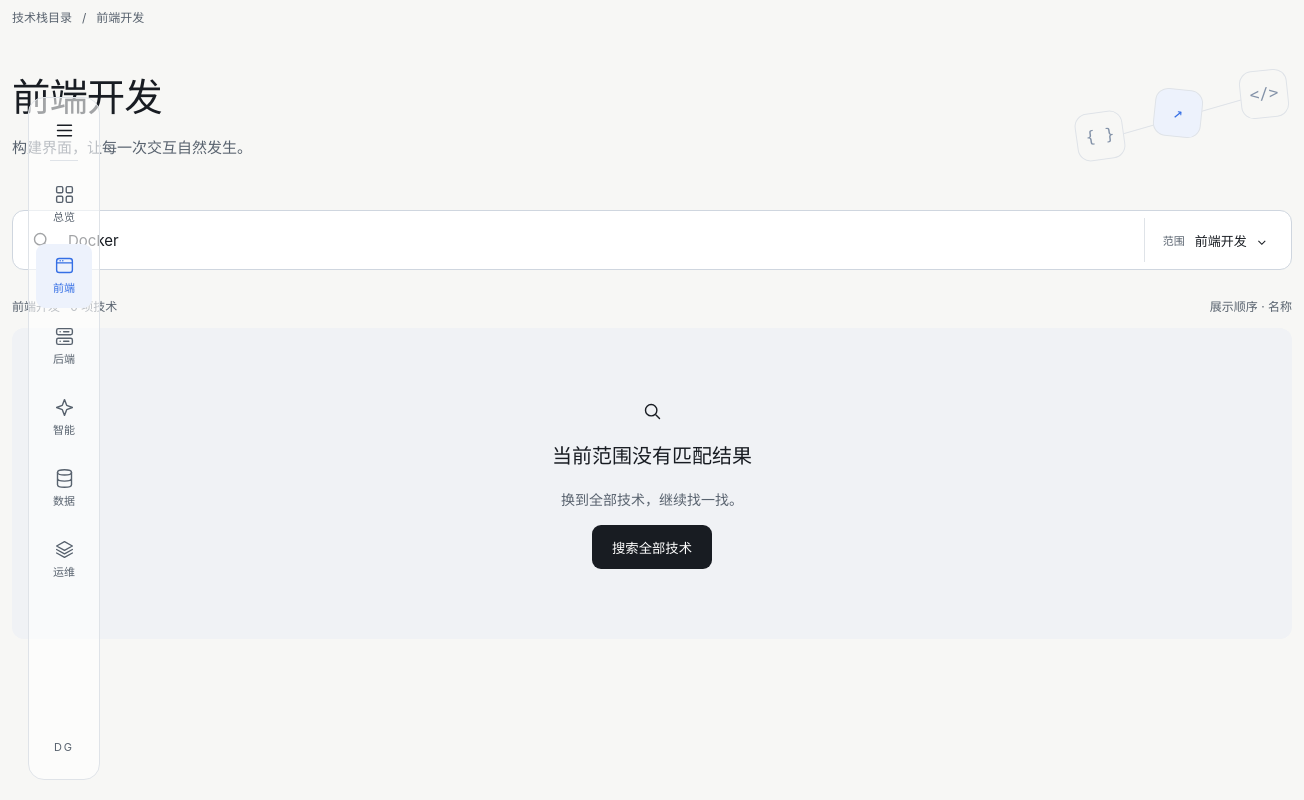
Test case: 局部无匹配只提供扩大范围，全目录能找到其他方向的技术
Expected: the element with class "catalog-empty" shows "当前范围没有匹配结果", [552,444,752,468]
Click the button with class "catalog-action" at [652, 547], box [592,525,712,569]
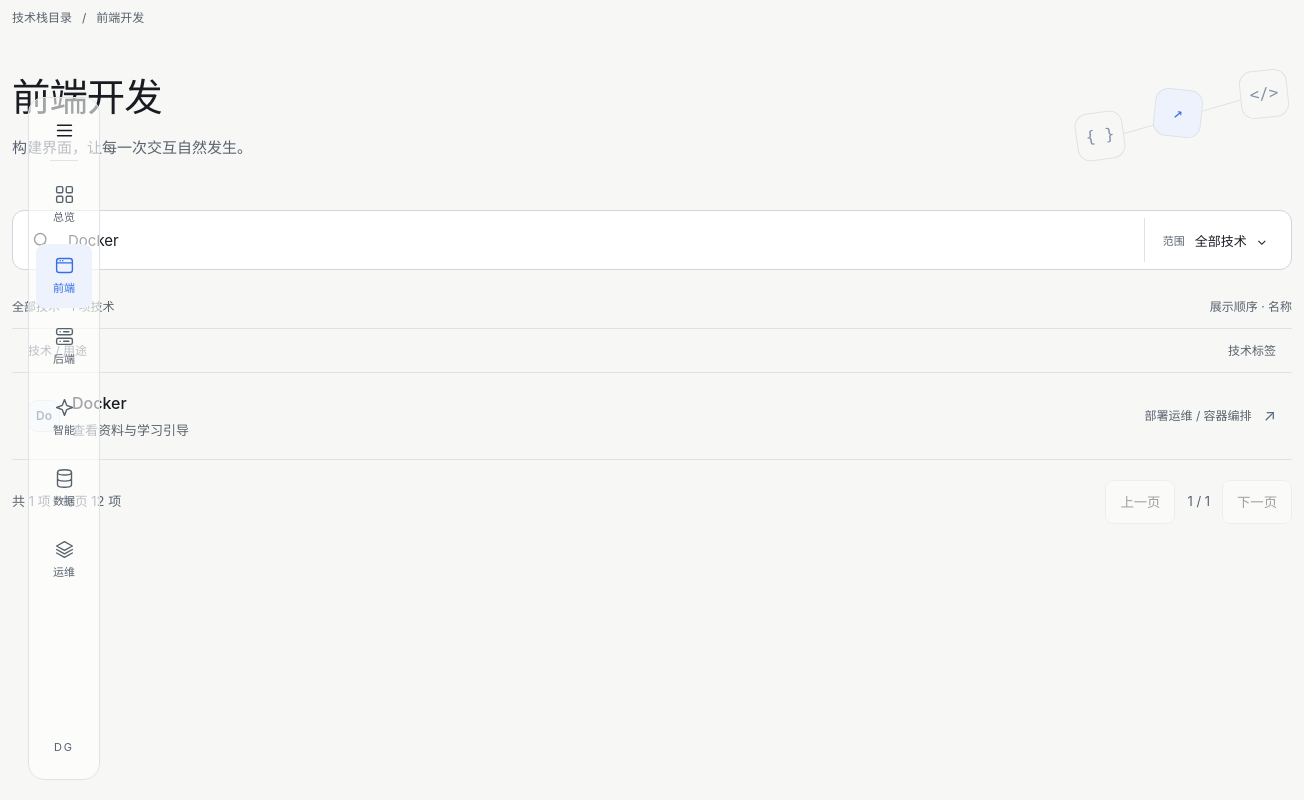
Expected: the search field holds "Docker", [66,218,1130,262]
Expected: the text with class "tech-name" reads "Docker", [72,393,127,413]
